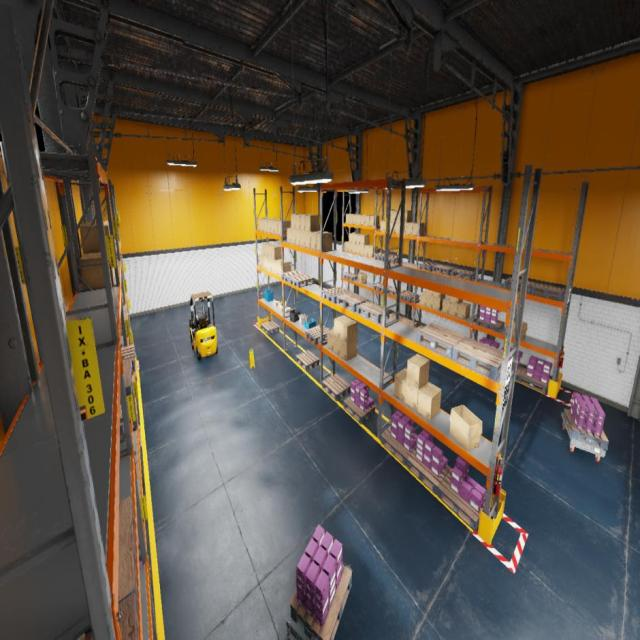box: (449, 405, 483, 452), (79, 255, 114, 289), (418, 381, 442, 421), (80, 224, 110, 254), (82, 252, 114, 278), (406, 354, 429, 389), (405, 382, 428, 411), (340, 318, 358, 344), (394, 368, 407, 402), (334, 315, 350, 339), (340, 339, 357, 361), (512, 318, 528, 339), (311, 231, 326, 250), (317, 232, 332, 250), (305, 214, 319, 232), (295, 214, 310, 230), (457, 302, 470, 319), (278, 260, 291, 275), (275, 258, 287, 274), (278, 220, 290, 235), (449, 302, 461, 317), (433, 296, 445, 311), (291, 213, 302, 229), (300, 214, 310, 231), (274, 220, 286, 234), (260, 218, 272, 232), (262, 242, 273, 256), (268, 244, 278, 259), (413, 222, 424, 235), (407, 222, 418, 235), (264, 218, 274, 232), (271, 246, 281, 260), (442, 297, 450, 314), (333, 336, 340, 355), (270, 219, 279, 233), (357, 272, 367, 284), (368, 245, 378, 257), (267, 219, 276, 232), (258, 218, 267, 231), (265, 244, 274, 257), (328, 328, 333, 351), (420, 290, 427, 306), (370, 215, 379, 226), (450, 296, 462, 304), (404, 210, 412, 222), (426, 295, 433, 308), (290, 229, 296, 244), (360, 235, 369, 245), (362, 214, 371, 224), (390, 210, 398, 221), (385, 210, 393, 221), (305, 231, 310, 248), (364, 245, 372, 255), (356, 234, 364, 244), (352, 234, 360, 244), (353, 214, 361, 224), (300, 231, 305, 246), (349, 233, 356, 243), (434, 292, 445, 298), (288, 227, 292, 243), (113, 228, 116, 248), (296, 230, 300, 245), (356, 214, 362, 224), (396, 210, 401, 222), (390, 222, 396, 232), (380, 220, 385, 231), (113, 228, 116, 246), (349, 214, 355, 223), (268, 258, 272, 271), (365, 216, 370, 226), (385, 222, 390, 232), (346, 214, 351, 223), (396, 222, 400, 233), (427, 290, 434, 296), (360, 245, 364, 255), (356, 244, 360, 254), (345, 241, 349, 251), (285, 307, 291, 313), (280, 306, 286, 312), (272, 260, 275, 272), (265, 257, 268, 269), (262, 256, 265, 268), (274, 301, 280, 306), (120, 456, 127, 460), (352, 244, 355, 253), (349, 243, 352, 252), (260, 253, 262, 266), (280, 302, 286, 306), (404, 223, 406, 234), (114, 230, 115, 247), (121, 290, 123, 298), (278, 302, 282, 306), (114, 268, 114, 275)
forklift: (190, 292, 218, 360)
pallets: (85, 497, 138, 635), (291, 563, 352, 639), (437, 468, 485, 531), (76, 593, 139, 639), (452, 336, 503, 379), (407, 448, 450, 495), (563, 409, 609, 450), (416, 323, 465, 357), (381, 426, 416, 466), (343, 396, 375, 424), (517, 368, 551, 393), (322, 374, 350, 401), (356, 301, 390, 323), (337, 292, 368, 312), (531, 283, 565, 300), (322, 286, 351, 304), (296, 350, 320, 370), (504, 277, 536, 292), (305, 326, 330, 344), (121, 346, 136, 372), (123, 362, 133, 401), (476, 319, 504, 332), (280, 270, 304, 283), (290, 274, 314, 287), (452, 268, 476, 280), (432, 264, 457, 275), (261, 321, 279, 334), (418, 261, 440, 271), (400, 291, 419, 302), (387, 287, 406, 296), (374, 283, 391, 292), (400, 318, 417, 327), (120, 405, 124, 443), (383, 256, 402, 264), (389, 312, 404, 320), (515, 366, 523, 381), (374, 253, 391, 260), (121, 313, 127, 332), (138, 426, 142, 454), (344, 272, 358, 280), (133, 398, 137, 425), (122, 305, 126, 318), (136, 365, 138, 382), (416, 325, 424, 329), (130, 328, 131, 343), (133, 380, 134, 395)
